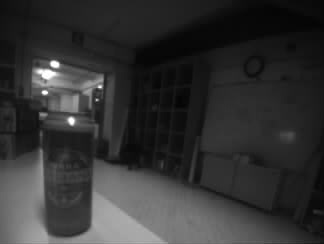Tin can: (38, 110, 96, 238)
